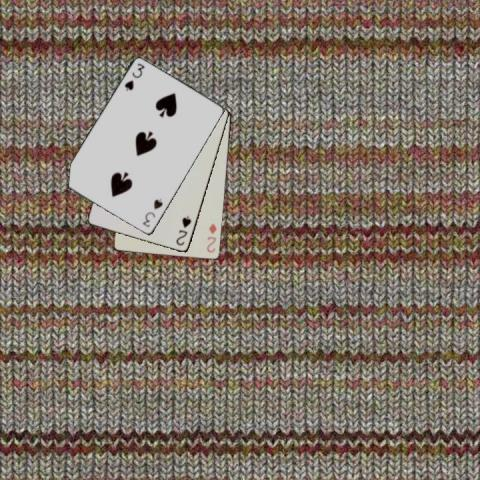2d: (204, 221, 218, 254)
2s: (173, 214, 193, 248)
3s: (121, 60, 146, 92), (140, 196, 164, 229)
